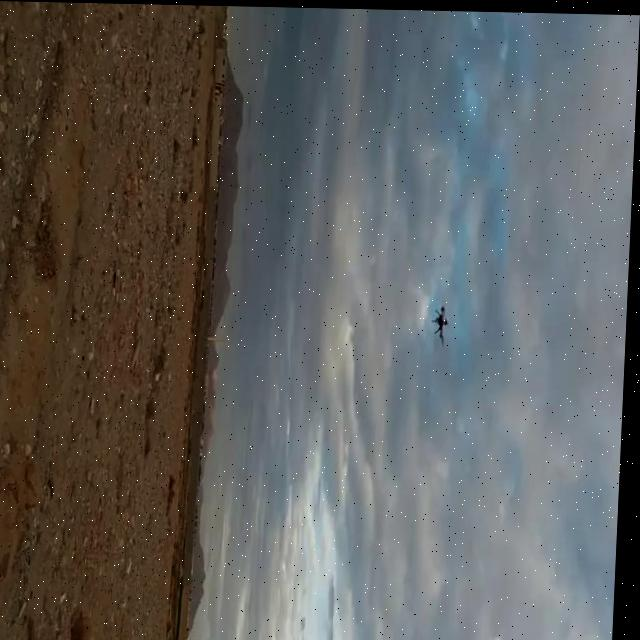drone: (428, 295, 458, 343)
